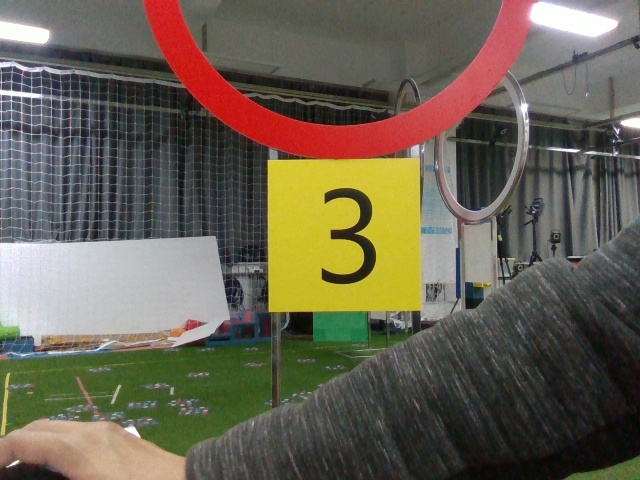target: (260, 152, 414, 312)
